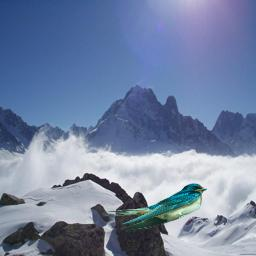Swallow: (101, 183, 207, 231)
